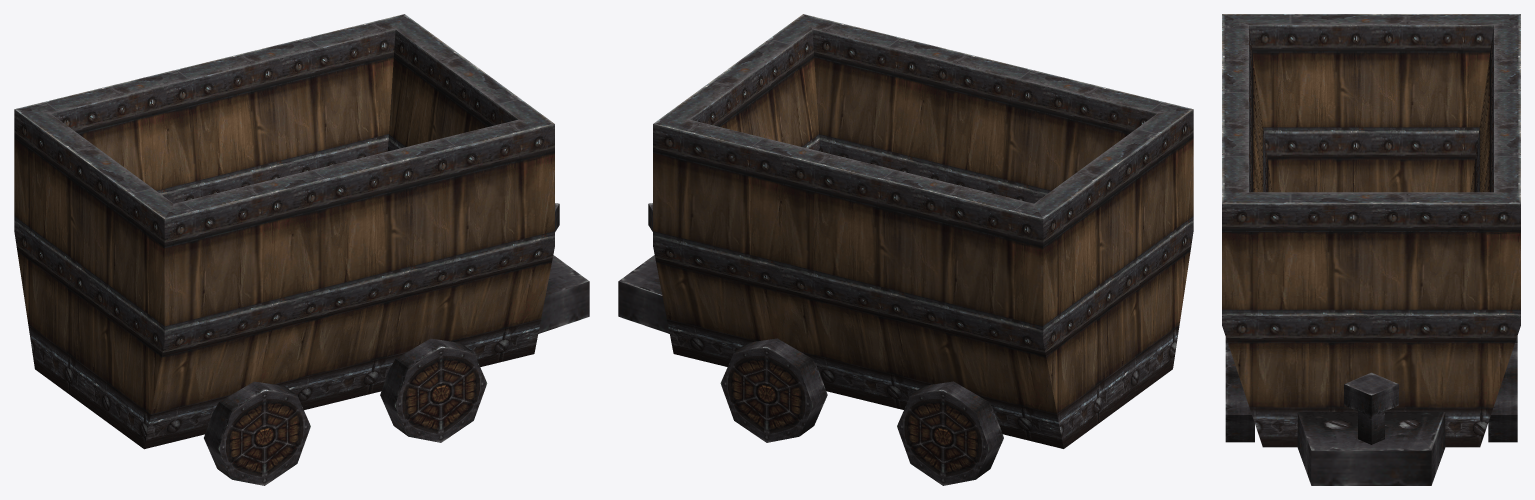
File: 6002_Item_kuangche02.FBX
3 views of the same model, side by side, from view 1: azimuth 30°, elevation 25°; view 2: azimuth 150°, elevation 25°; view 3: azimuth 270°, elevation 25° (orthographic).
Parts seen in each view (by area): view 1: 6002_Item_kuangche02; view 2: 6002_Item_kuangche02; view 3: 6002_Item_kuangche02.
Boxes of the visible parts, x1,y1,x2,y2 form: 6002_Item_kuangche02: [14, 14, 589, 485]; 6002_Item_kuangche02: [618, 14, 1193, 485]; 6002_Item_kuangche02: [1222, 14, 1520, 485].
Bounding box in the file's own units: 211 × 125 × 116.
